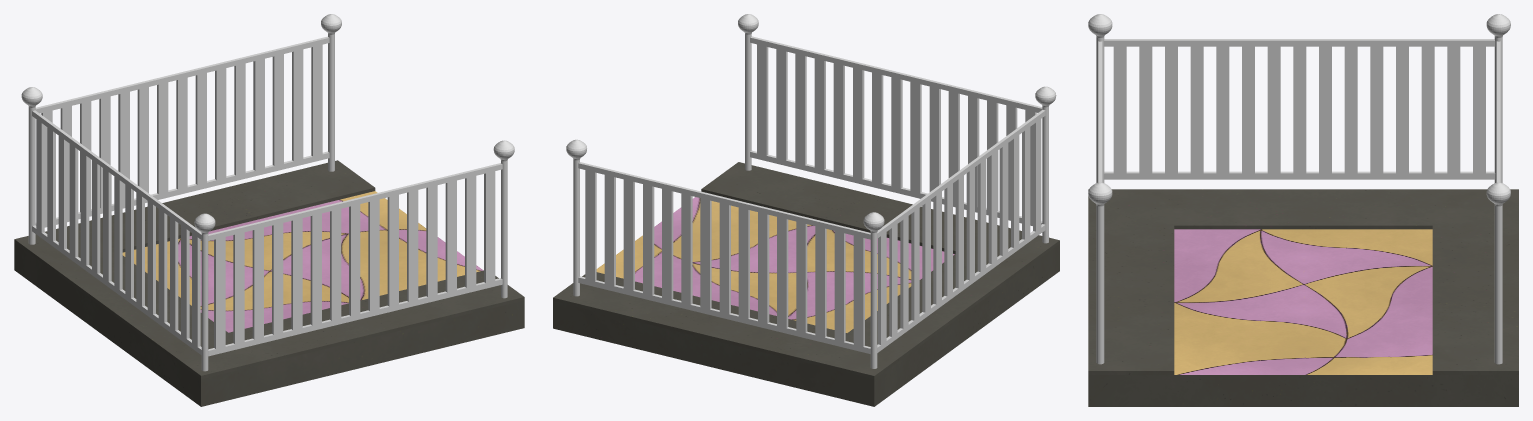
Rendered from tile_end.fbx.
The picture shows the model from 3 angles, left to right: view 1: azimuth 30°, elevation 25°; view 2: azimuth 150°, elevation 25°; view 3: azimuth 270°, elevation 25°; orthographic projection. The views are drawn at different scales.
Visible parts, largest first — view 1: Cube.003; view 2: Cube.003; view 3: Cube.003.
Boxes of the visible parts, x1,y1,x2,y2 form: Cube.003: (14, 14, 524, 406); Cube.003: (553, 14, 1059, 406); Cube.003: (1088, 14, 1518, 406).
Bounding box in the file's own units: 100 × 55.24 × 100.
